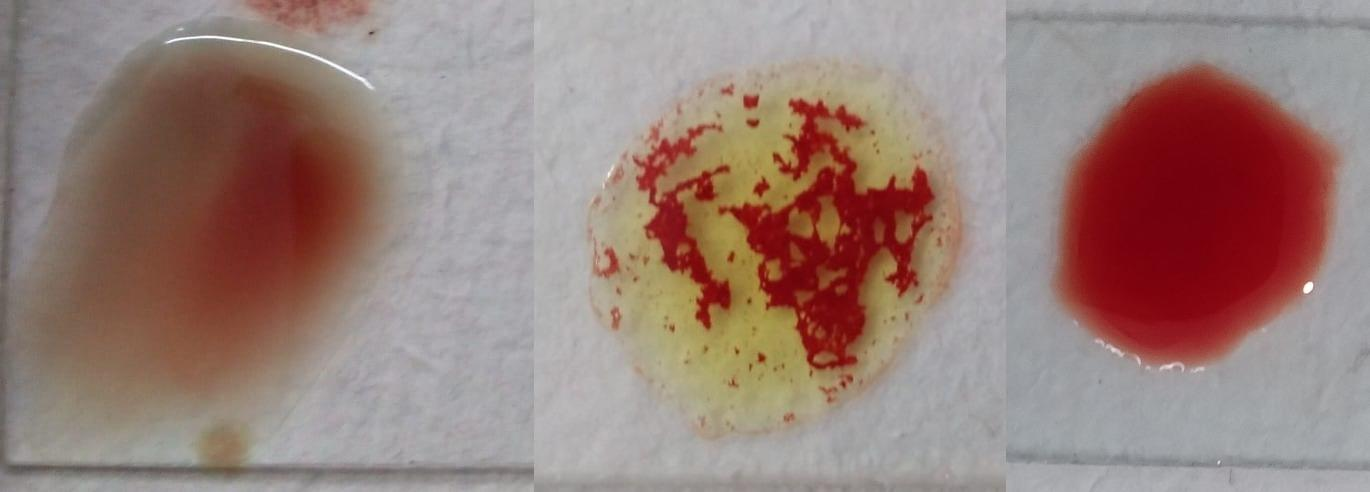B: (586, 71, 958, 437)
